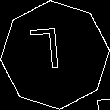L_S: (37, 28, 73, 82)
